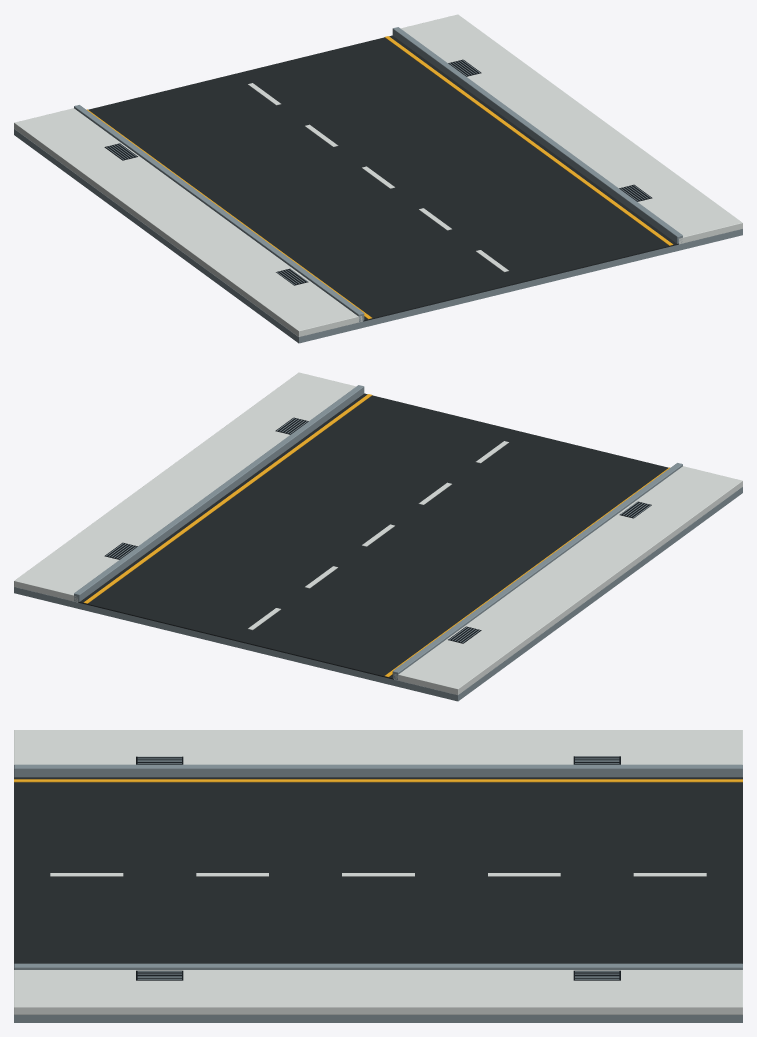
File: edited.glb
3 views of the same model, one above another, from view 1: azimuth 30°, elevation 25°; view 2: azimuth 150°, elevation 25°; view 3: azimuth 270°, elevation 25° (orthographic). The views are drawn at different scales.
Visible parts, largest first — view 1: ROAD_Carriageway, SIDEWALK, SIDEWALK.001, ROAD_Base, KERB.001, ROAD_Markings, KERB; view 2: ROAD_Carriageway, SIDEWALK, SIDEWALK.001, ROAD_Base, KERB.001, ROAD_Markings, KERB; view 3: ROAD_Carriageway, SIDEWALK.001, SIDEWALK, KERB, ROAD_Base, KERB.001, ROAD_Markings, DRAIN_Frame.002, DRAIN_Frame.003.
Part boxes in pixels (x1,y1,x2,y2): ROAD_Carriageway: (88,35,678,321); SIDEWALK: (14,108,362,336); SIDEWALK.001: (400,14,742,244); ROAD_Base: (14,129,742,343); KERB.001: (392,27,682,243); ROAD_Markings: (87,36,673,319); KERB: (74,105,364,321); ROAD_Carriageway: (78,393,668,679); SIDEWALK: (394,466,742,694); SIDEWALK.001: (14,372,356,602); ROAD_Base: (14,487,742,701); KERB.001: (74,385,364,602); ROAD_Markings: (83,394,669,677); KERB: (392,463,682,680); ROAD_Carriageway: (14,777,742,963); SIDEWALK.001: (14,970,742,1014); SIDEWALK: (14,730,742,764); KERB: (14,764,742,777); ROAD_Base: (14,1015,742,1022); KERB.001: (14,963,742,969); ROAD_Markings: (14,779,742,876); DRAIN_Frame.002: (136,970,183,980); DRAIN_Frame.003: (573,970,620,980).
Bounding box in the file's own units: 9 × 0.28 × 10.
